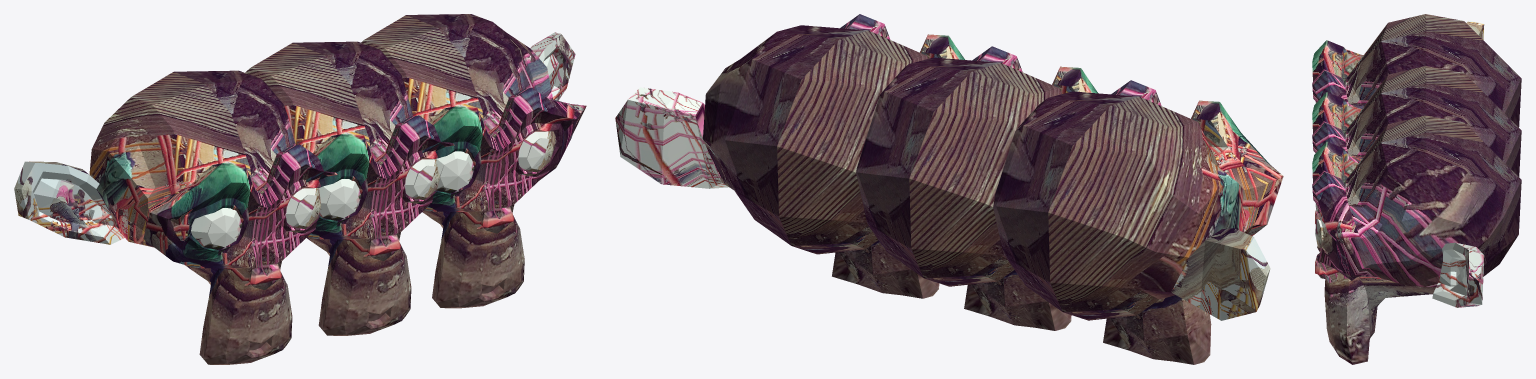
3 views of the same model, side by side, from view 1: azimuth 30°, elevation 25°; view 2: azimuth 150°, elevation 25°; view 3: azimuth 270°, elevation 25° (orthographic). The views are drawn at different scales.
Parts seen in each view (by area): view 1: Suzanne.002; view 2: Suzanne.002; view 3: Suzanne.002.
Part boxes in pixels (x1=…): Suzanne.002: x1=14, y1=14, x2=586, y2=364; Suzanne.002: x1=615, y1=14, x2=1283, y2=364; Suzanne.002: x1=1312, y1=14, x2=1521, y2=364.
Size of the model in its own units: 4.69 by 1.97 by 1.7.
1 material, 1 textured.
